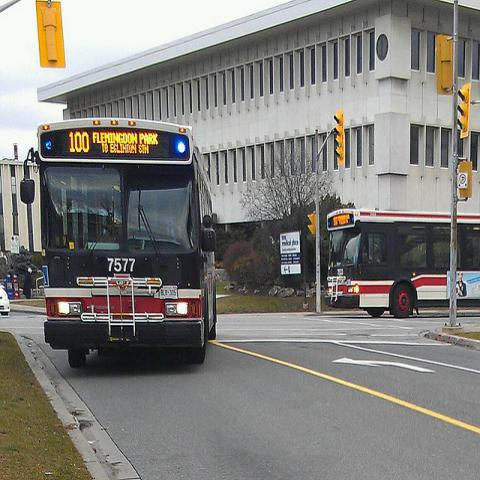bus: (20, 118, 217, 368), (323, 210, 479, 320)
car: (0, 286, 12, 320)
